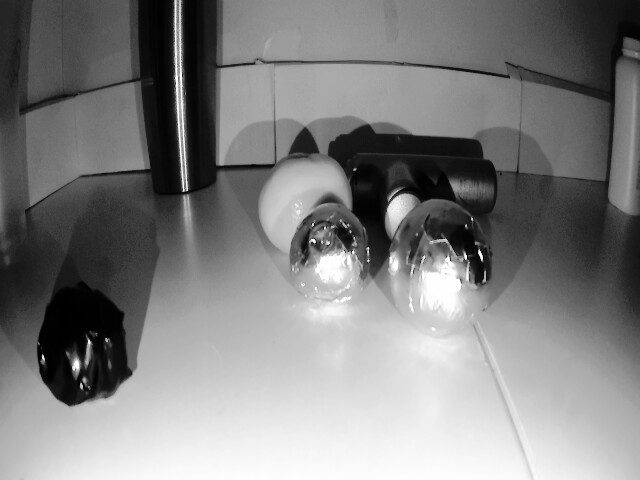black: (387, 194, 496, 337), (290, 189, 368, 311)
silver: (36, 284, 135, 400)
